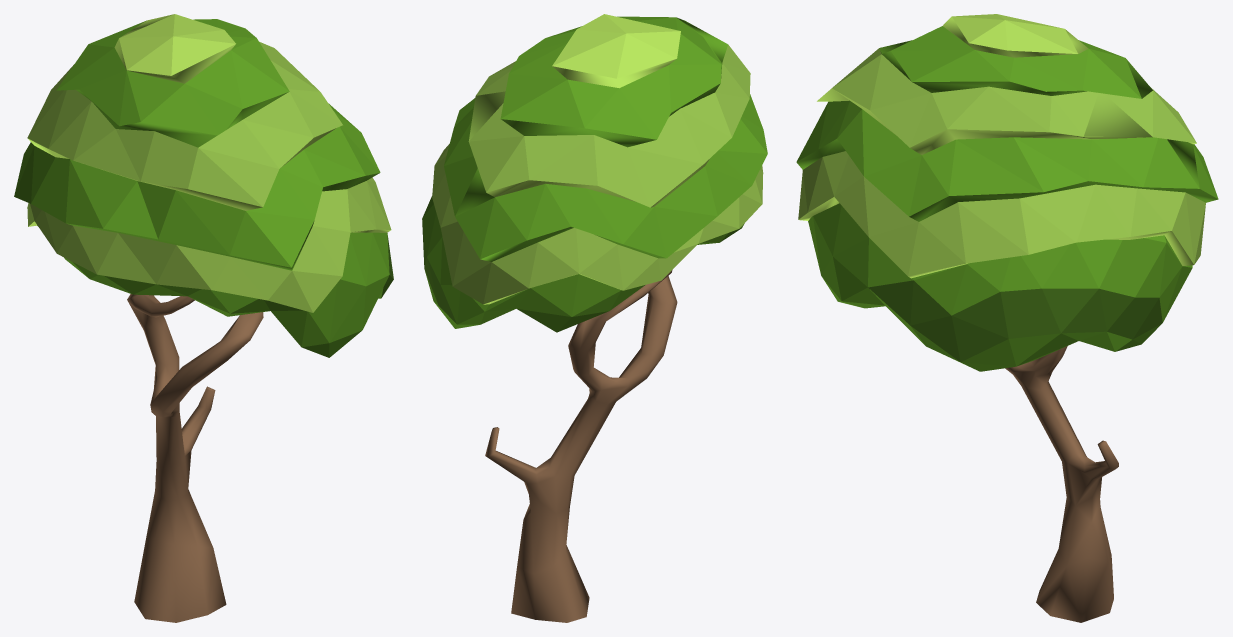
The model's file is LowPolyTree_TwistingBranches.fbx.
3 renders of one model, left to right at view 1: azimuth 30°, elevation 25°; view 2: azimuth 150°, elevation 25°; view 3: azimuth 270°, elevation 25°, orthographic. The views are drawn at different scales.
Visible parts, largest first — view 1: LowPolyTree_TwistingBranches; view 2: LowPolyTree_TwistingBranches; view 3: LowPolyTree_TwistingBranches.
Boxes of the visible parts, <box> form: LowPolyTree_TwistingBranches: <box>14,14,393,622</box>; LowPolyTree_TwistingBranches: <box>422,14,767,622</box>; LowPolyTree_TwistingBranches: <box>796,14,1218,622</box>.
Bounding box in the file's own units: 100 × 183 × 124.
